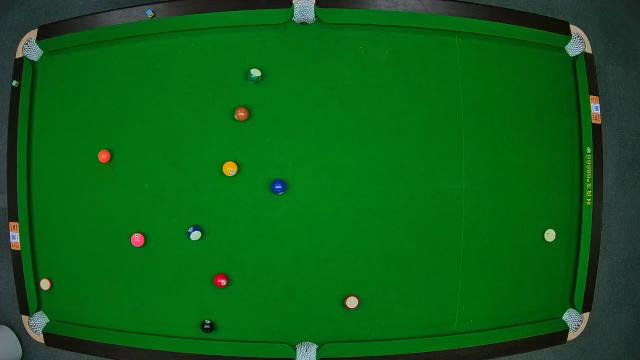bag1: (22, 38, 42, 60)
bag2: (293, 1, 315, 27)
bag3: (565, 34, 587, 57)
bag4: (28, 310, 48, 334)
bag5: (296, 339, 318, 360)
bag6: (562, 308, 582, 330)
ball0: (542, 228, 558, 244)
ball1: (222, 160, 238, 178)
ball10: (187, 226, 203, 243)
ball11: (344, 295, 360, 311)
ball12: (40, 276, 52, 292)
ball14: (247, 68, 263, 84)
ball2: (271, 177, 287, 195)
ball3: (213, 272, 229, 288)
ball4: (130, 231, 146, 246)
ball5: (98, 149, 110, 163)
ball7: (233, 106, 249, 121)
ball8: (200, 319, 216, 333)
